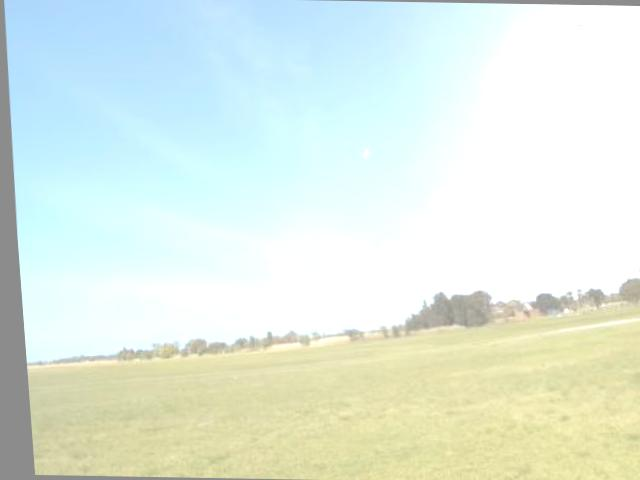uav: (353, 144, 371, 162)
